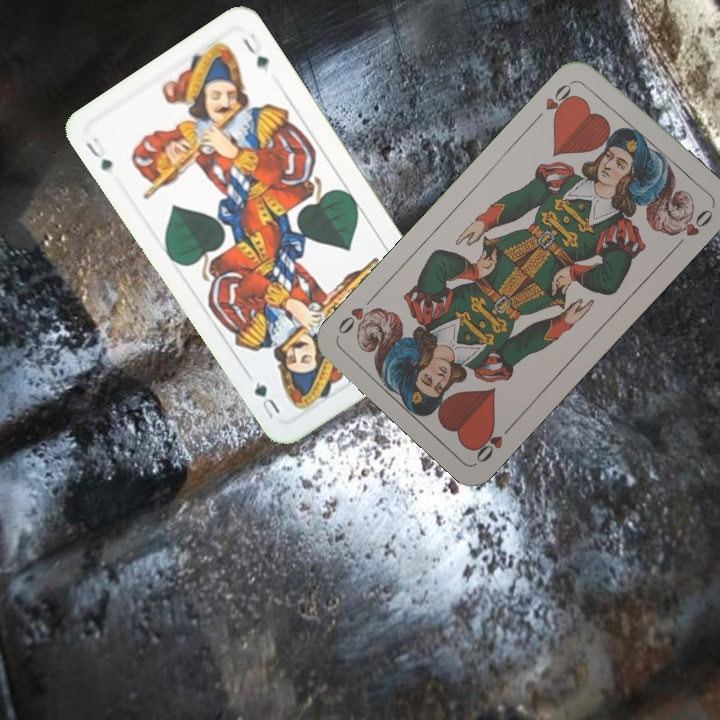GU: (81, 132, 115, 175)
HO: (469, 418, 518, 465), (531, 77, 579, 124)
